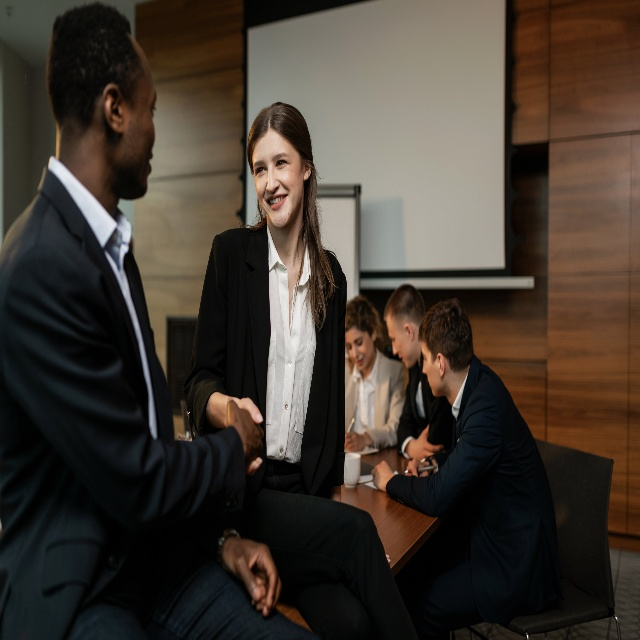Sin_guantes: (222, 537, 283, 616), (229, 394, 262, 472), (225, 398, 264, 452), (409, 425, 443, 461), (404, 460, 432, 481), (371, 461, 390, 488), (345, 429, 366, 453)
